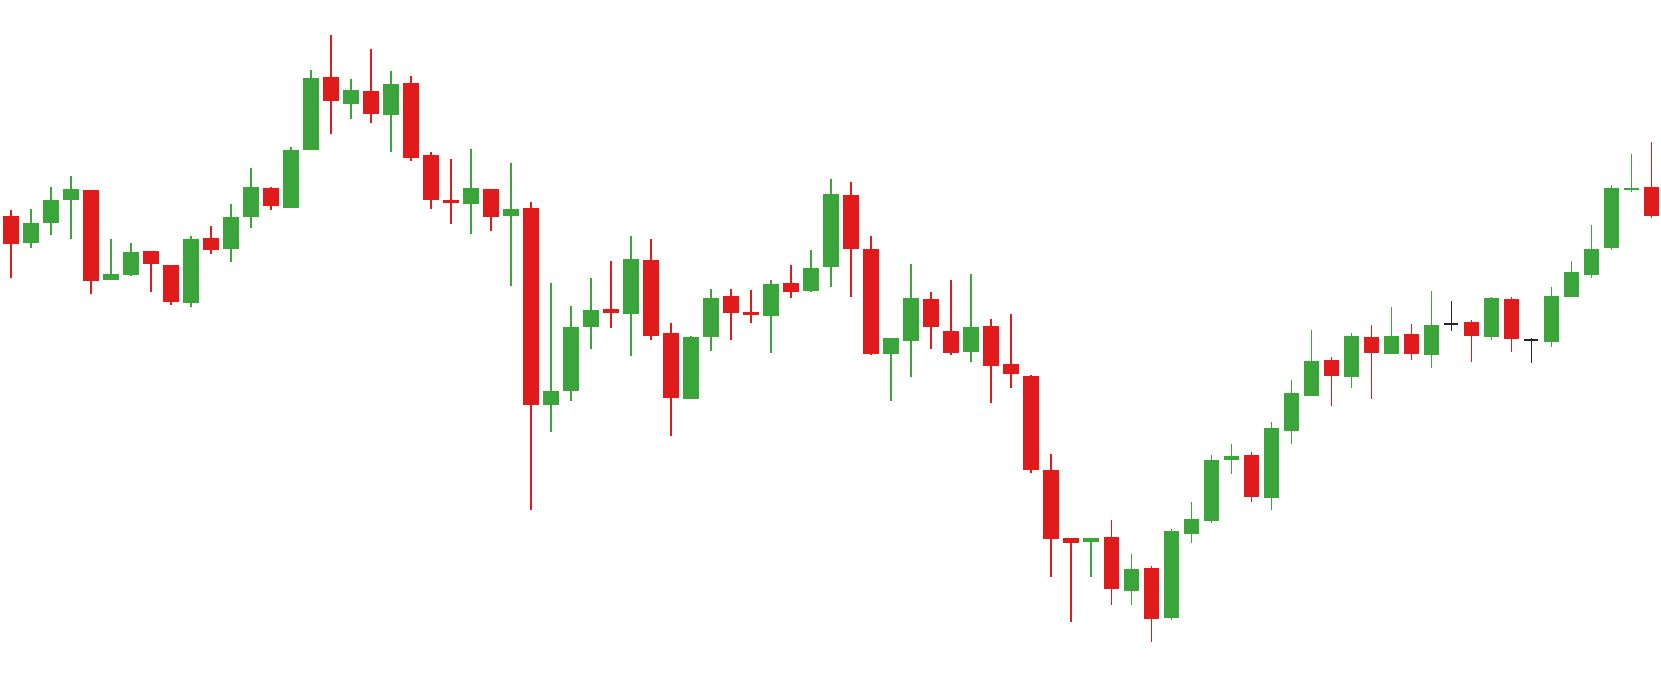buy: (1062, 544, 1179, 650)
